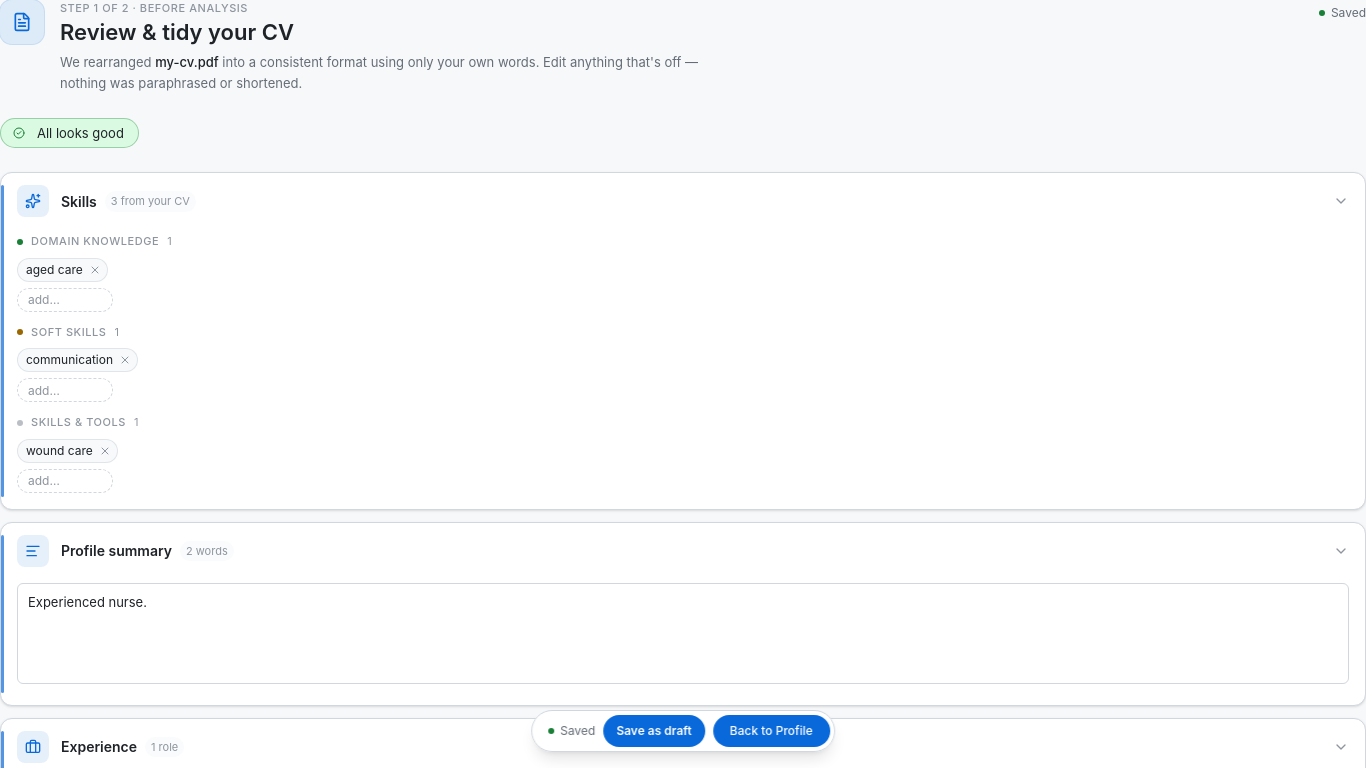
Scenario: Skills section › removing a chip reaches removeSkill
Click the button named "Remove wound care". click: {"x": 105, "y": 451}
box: [97,443,113,459]
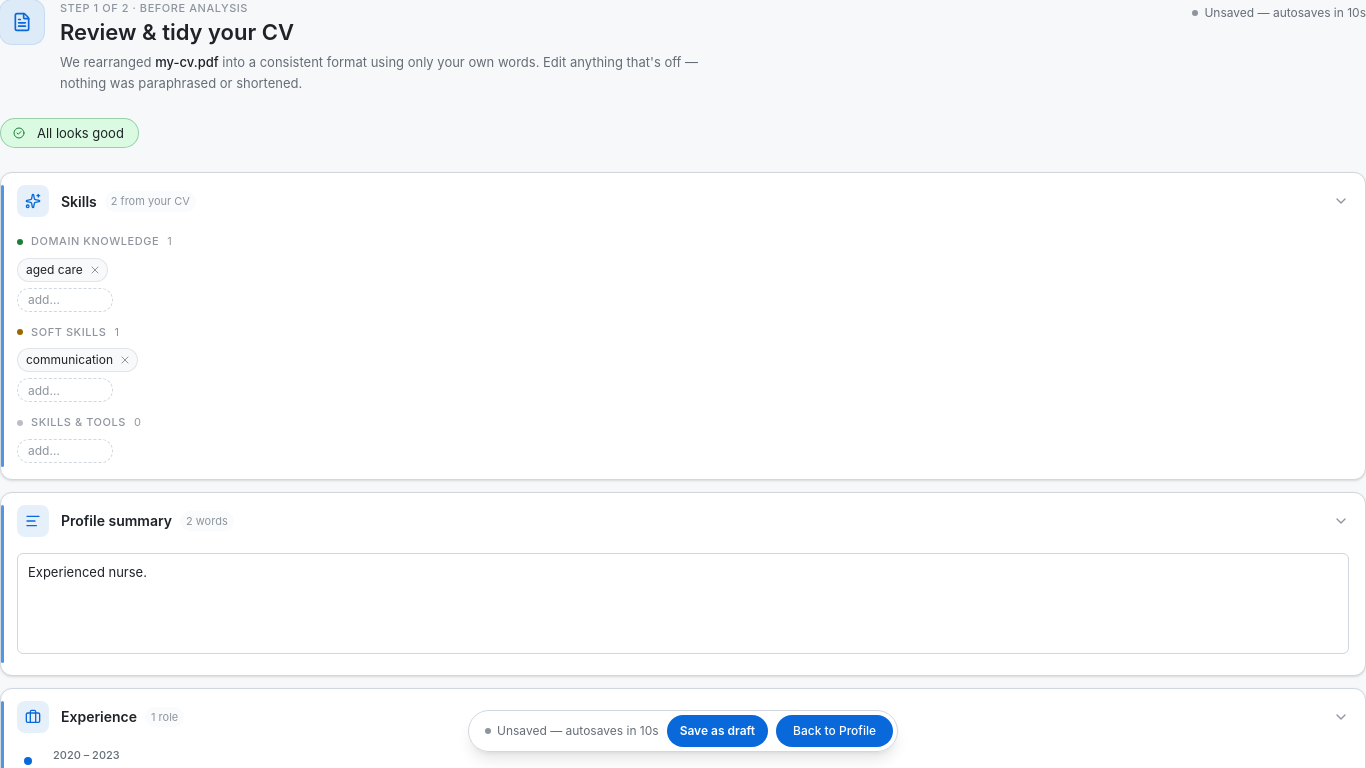
Expected: the text "wound care" is gone
